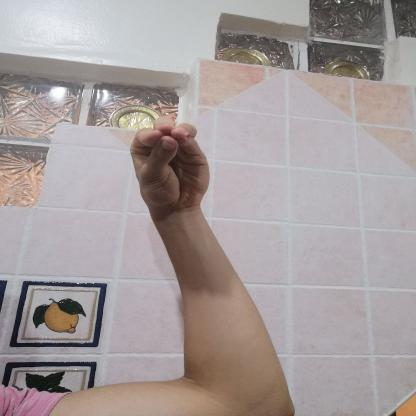HA: (108, 102, 232, 224)
